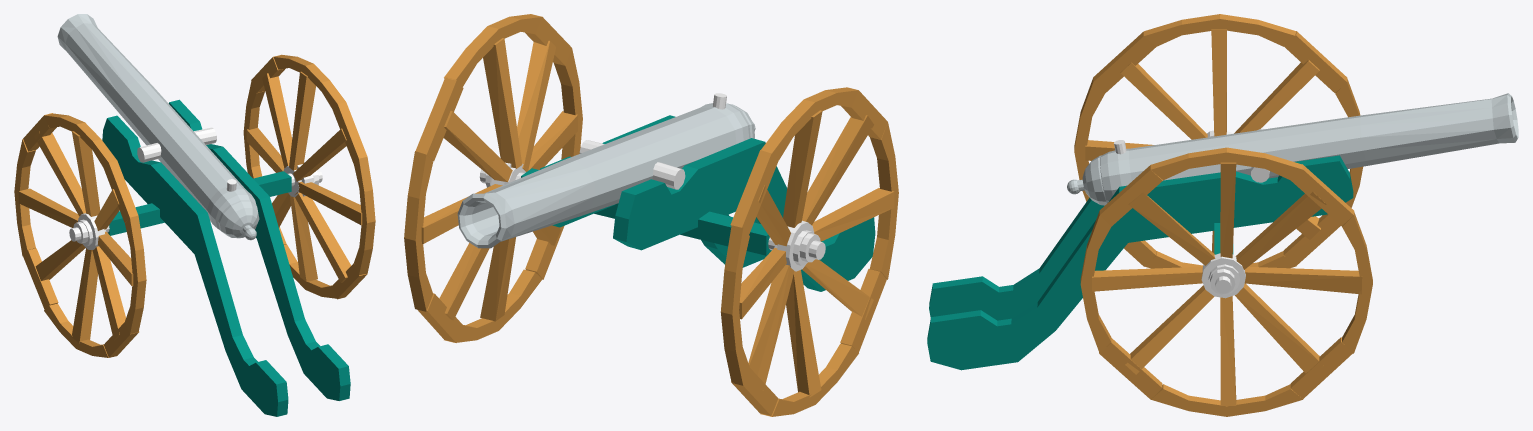
The model's file is cannon.glb.
3 views of the same model, side by side, from view 1: azimuth 30°, elevation 25°; view 2: azimuth 150°, elevation 25°; view 3: azimuth 270°, elevation 25° (orthographic). The views are drawn at different scales.
Visible parts, largest first — view 1: group733241714, group409098393, group729818692, group2009397206, group163975949, group1554792835, group385947151, group1058046850; view 2: group733241714, group409098393, group163975949, group729818692, group1058046850, group2009397206, group1554792835; view 3: group733241714, group409098393, group2009397206, group1554792835, group729818692, group385947151.
Boxes of the visible parts, x1,y1,x2,y2 form: group733241714: [14, 54, 375, 357]; group409098393: [57, 14, 256, 230]; group729818692: [194, 212, 288, 416]; group2009397206: [256, 196, 350, 400]; group163975949: [102, 115, 207, 253]; group1554792835: [169, 99, 269, 237]; group385947151: [218, 200, 259, 238]; group1058046850: [137, 143, 161, 162]; group733241714: [404, 14, 898, 416]; group409098393: [457, 103, 750, 248]; group163975949: [613, 138, 764, 250]; group729818692: [756, 142, 875, 291]; group1058046850: [652, 162, 685, 189]; group2009397206: [701, 214, 767, 267]; group1554792835: [540, 115, 675, 227]; group733241714: [1074, 14, 1372, 416]; group409098393: [1100, 93, 1518, 201]; group2009397206: [927, 187, 1127, 370]; group1554792835: [1119, 155, 1353, 242]; group729818692: [929, 197, 1104, 320]; group385947151: [1082, 155, 1108, 205].
Size of the model in its own units: 0.5331 by 0.4698 by 0.9293.
